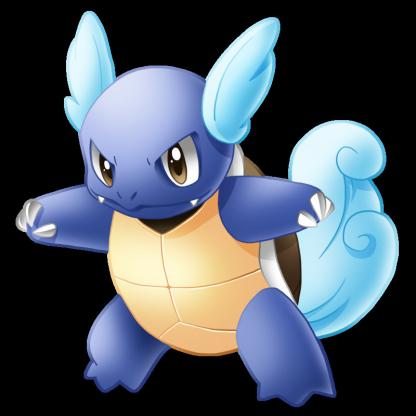Wartortle: (10, 6, 407, 407)
